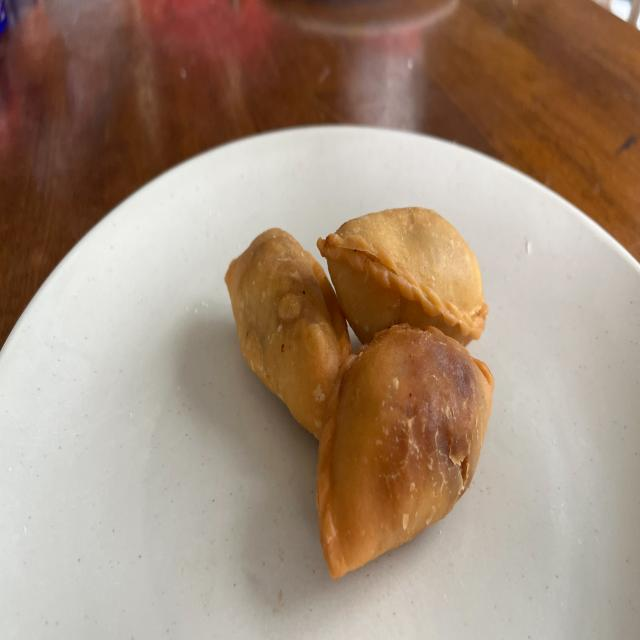karipap: (316, 324, 494, 578), (225, 229, 351, 438), (318, 207, 488, 344)
